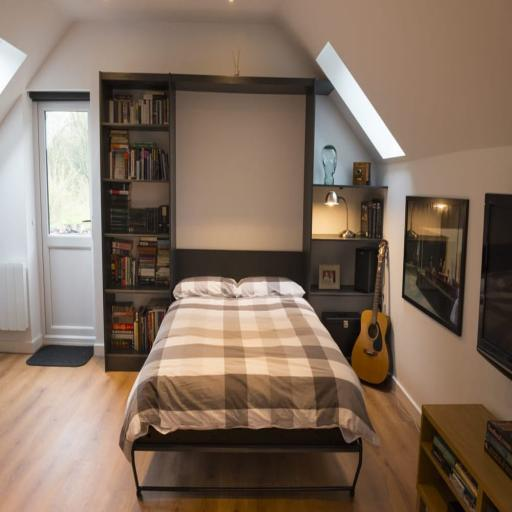bed: (119, 276, 381, 498)
